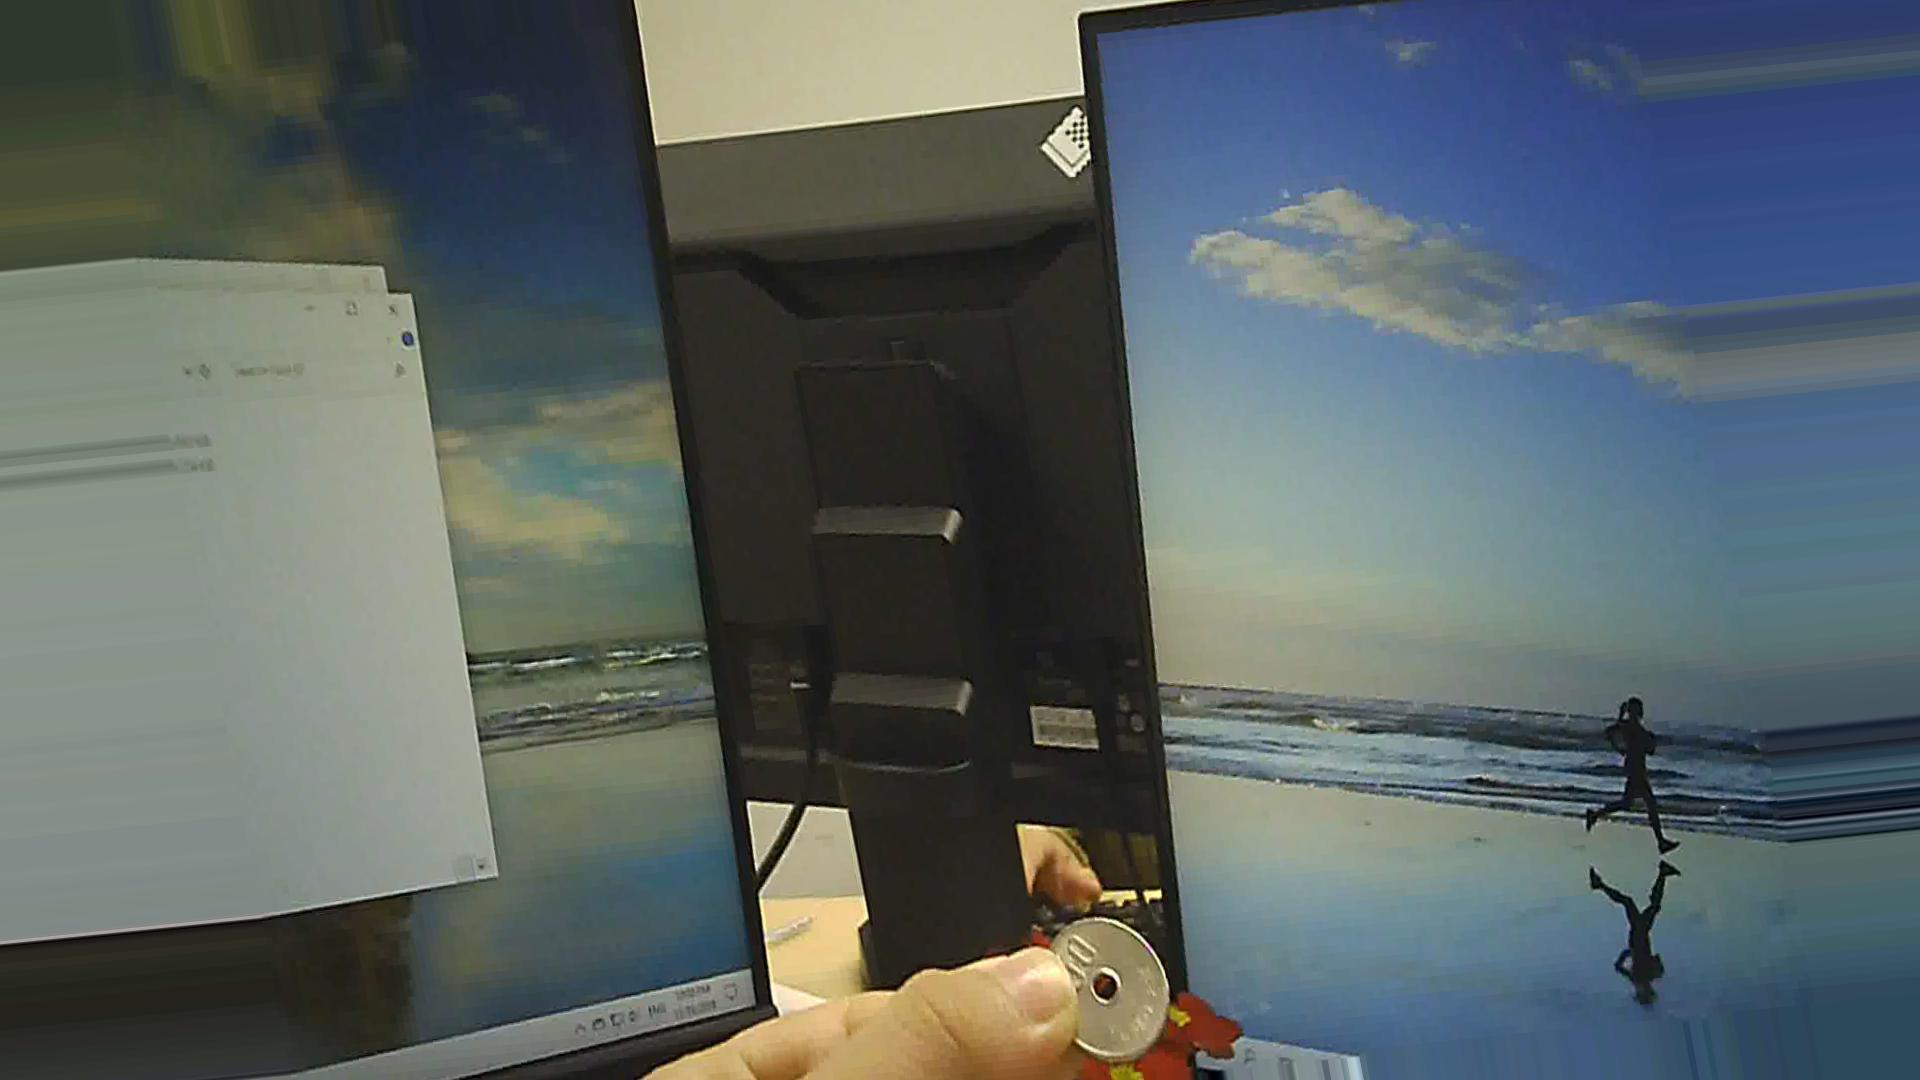50 Yen: (1034, 916, 1178, 1065)
